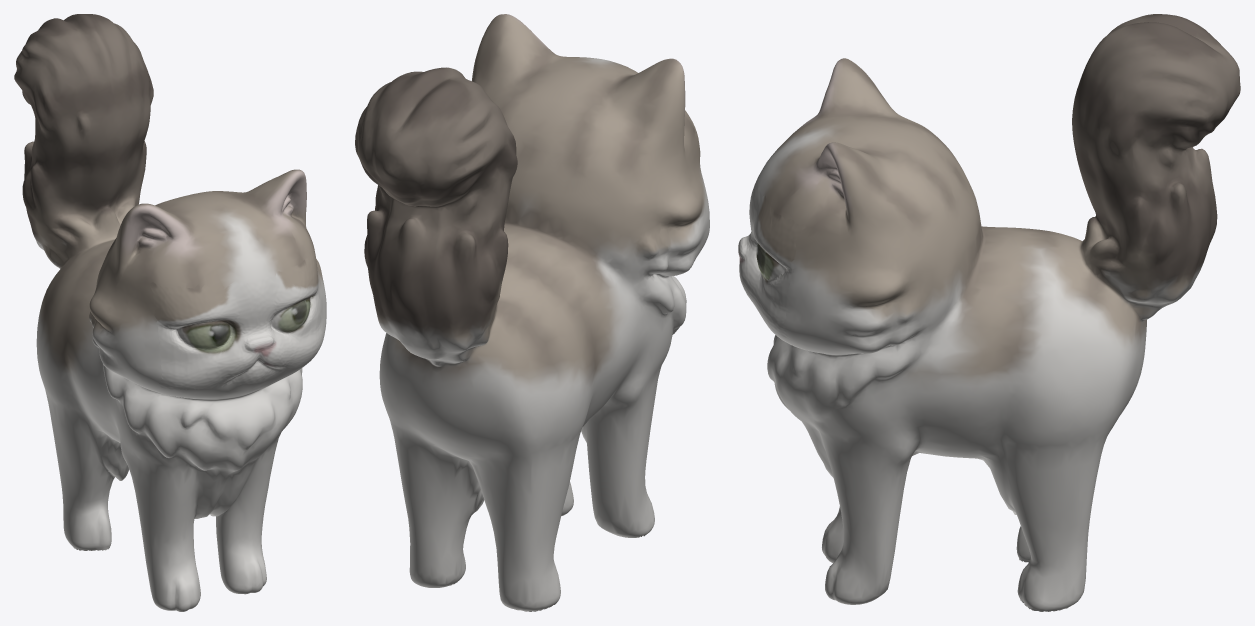
Rendered from felipe_color_patas.glb.
3 renders of one model, left to right at view 1: azimuth 30°, elevation 25°; view 2: azimuth 150°, elevation 25°; view 3: azimuth 270°, elevation 25°, orthographic. The views are drawn at different scales.
Visible parts, largest first — view 1: geometry_0; view 2: geometry_0; view 3: geometry_0.
Part boxes in pixels (box(x1,y1,x2,y2)): geometry_0: box(14, 14, 326, 611); geometry_0: box(355, 14, 709, 611); geometry_0: box(738, 14, 1240, 611).
Size of the model in its own units: 1.16 by 2.43 by 1.98.
